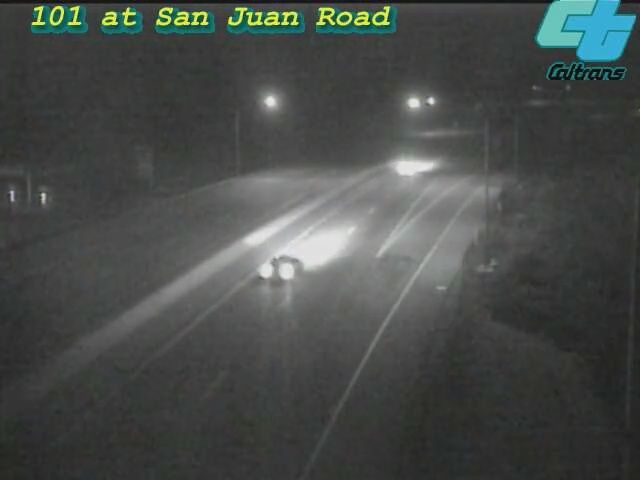vehicle: (368, 128, 448, 208), (244, 228, 324, 308)
